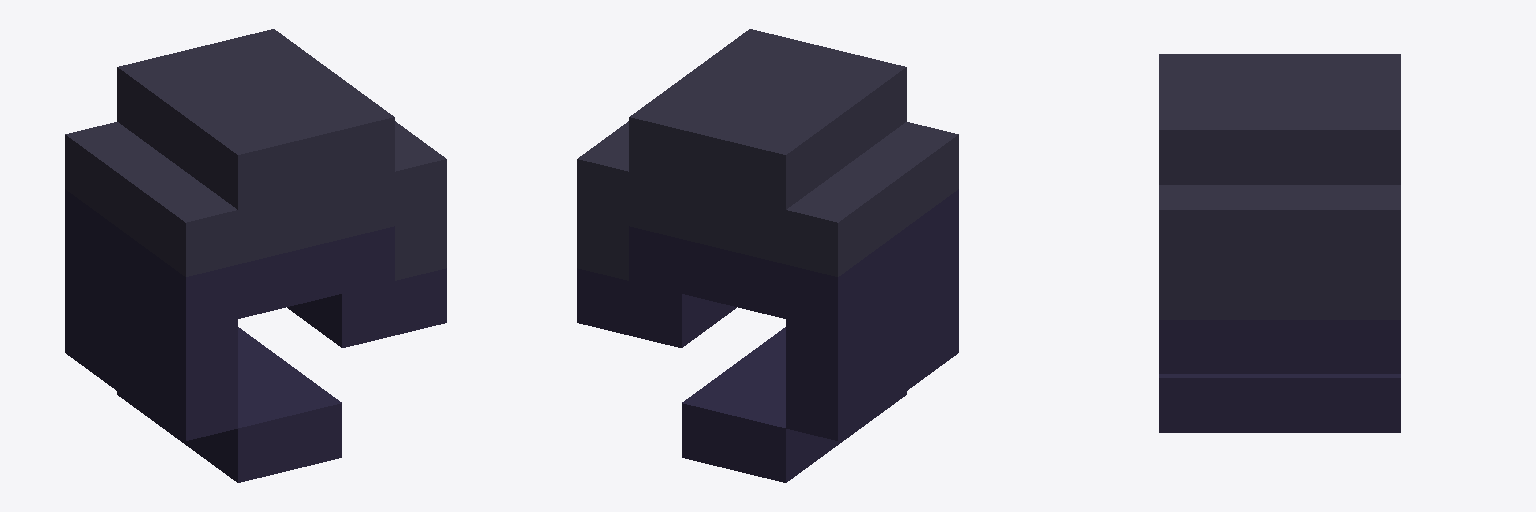
3 views of the same model, side by side, from view 1: azimuth 30°, elevation 25°; view 2: azimuth 150°, elevation 25°; view 3: azimuth 270°, elevation 25° (orthographic).
Parts seen in each view (by area): view 1: object 1; view 2: object 1; view 3: object 1.
Part boxes in pixels (bbox=[...]): object 1: bbox=[65, 29, 446, 482]; object 1: bbox=[577, 29, 958, 482]; object 1: bbox=[1159, 54, 1400, 432].
Bounding box in the file's own units: 0.5 × 0.6 × 0.4.
Materials: 1 (1 with a texture image).